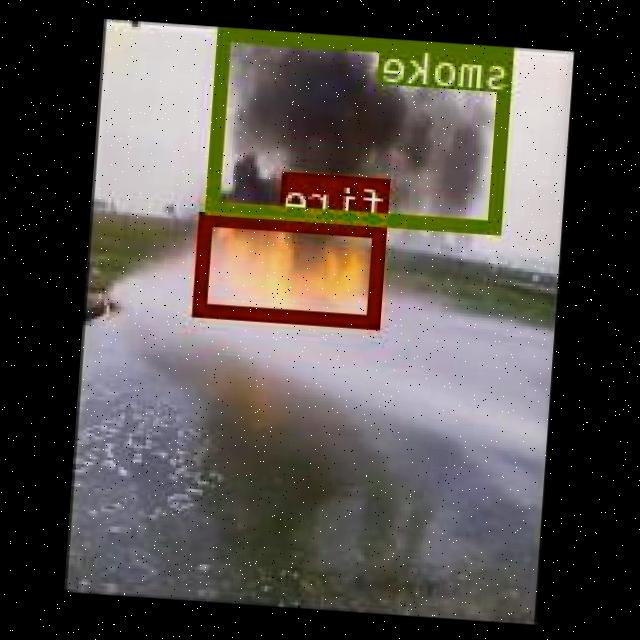fire: (196, 210, 388, 326)
smoke: (208, 27, 514, 230)
